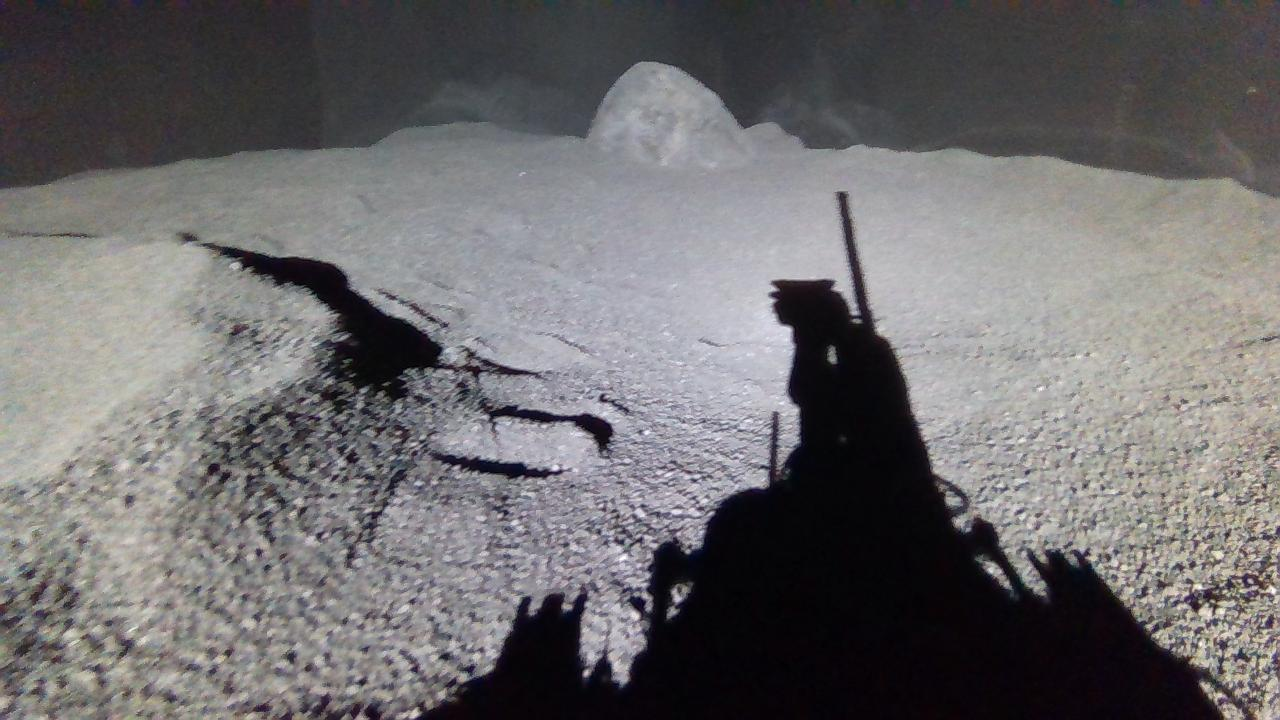rock: (588, 60, 752, 166)
